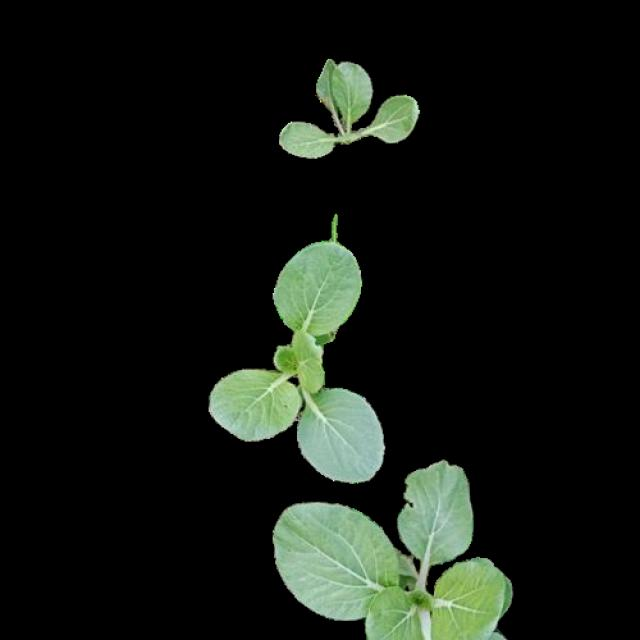healthy: (205, 237, 383, 479), (274, 457, 508, 637), (278, 56, 417, 154)
not-mature: (208, 238, 386, 481), (276, 459, 510, 640), (280, 59, 420, 156)
